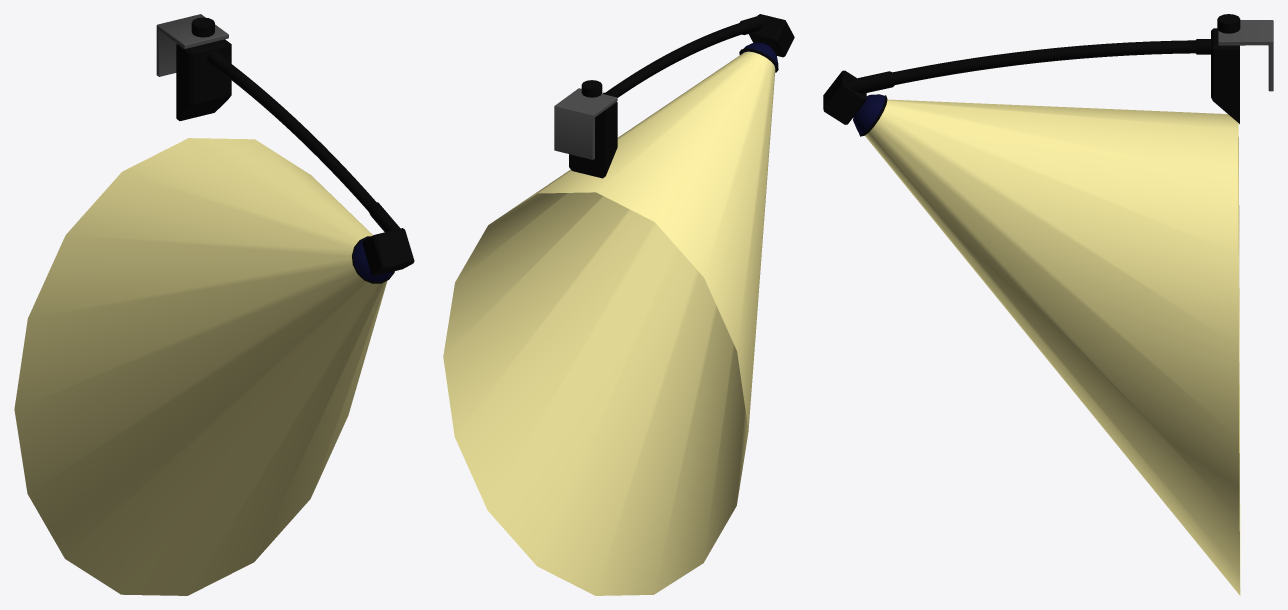
The model's file is LumCloison_01.FBX.
The picture shows the model from 3 angles, left to right: view 1: azimuth 30°, elevation 25°; view 2: azimuth 150°, elevation 25°; view 3: azimuth 270°, elevation 25°; orthographic projection. The views are drawn at different scales.
Parts seen in each view (by area): view 1: LumCloisonCone_01, LumCloison_01; view 2: LumCloisonCone_01, LumCloison_01; view 3: LumCloisonCone_01, LumCloison_01.
Part boxes in pixels (bbox=[...]): LumCloisonCone_01: bbox=[14, 138, 387, 595]; LumCloison_01: bbox=[156, 14, 414, 283]; LumCloisonCone_01: bbox=[443, 51, 775, 595]; LumCloison_01: bbox=[554, 14, 794, 178]; LumCloisonCone_01: bbox=[865, 99, 1240, 595]; LumCloison_01: bbox=[823, 14, 1273, 136].
Bounding box in the file's own units: 42.99 × 68.08 × 48.95.
